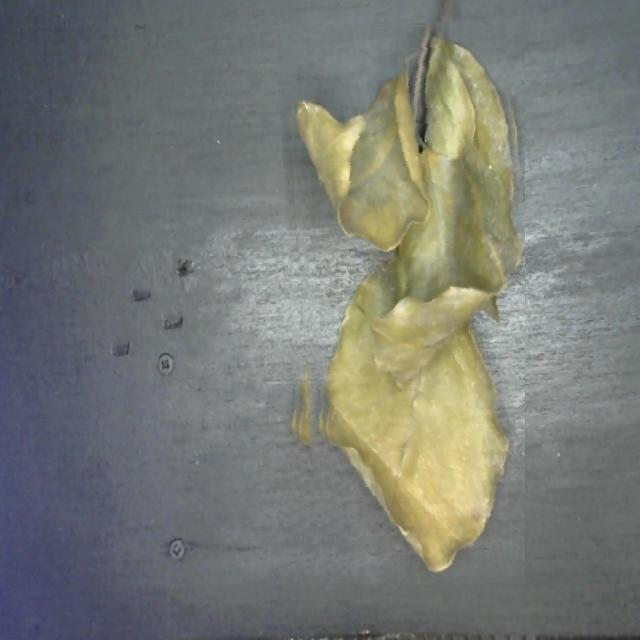biodegradable: (283, 21, 525, 582)
